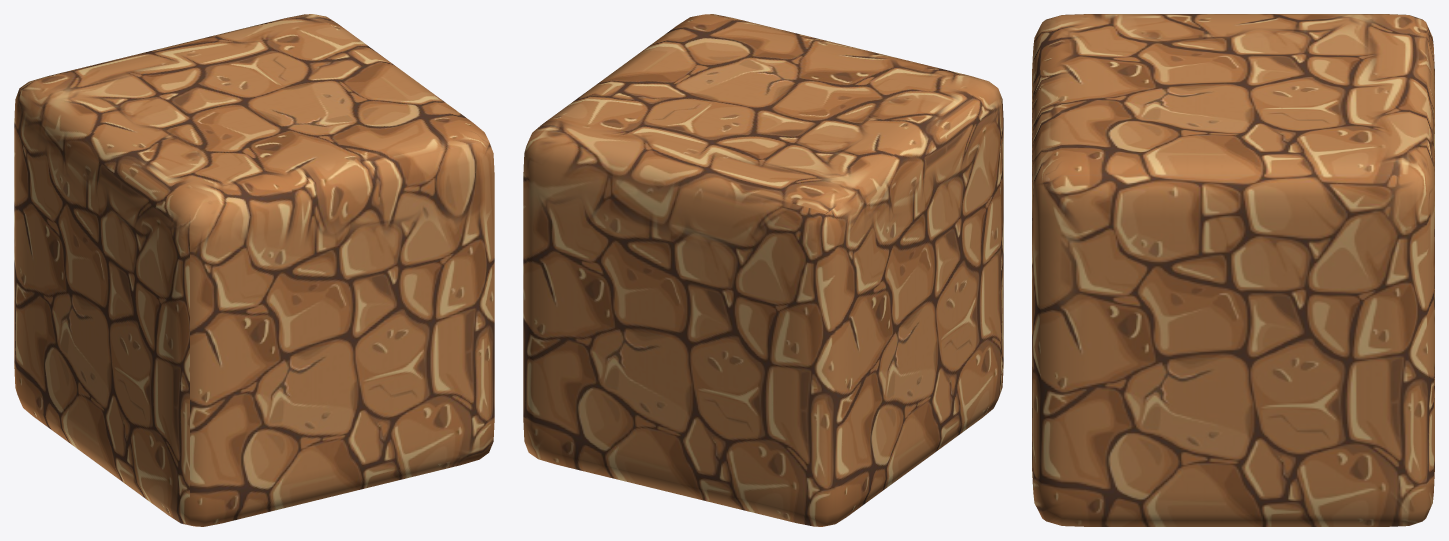
The model's file is SoleBlock.fbx.
3 views of the same model, side by side, from view 1: azimuth 30°, elevation 25°; view 2: azimuth 150°, elevation 25°; view 3: azimuth 270°, elevation 25° (orthographic). The views are drawn at different scales.
Parts seen in each view (by area): view 1: Cube; view 2: Cube; view 3: Cube.
Part boxes in pixels (x1,y1,x2,y2): Cube: (14,14,494,526); Cube: (523,14,1003,526); Cube: (1032,14,1434,526).
Size of the model in its own units: 200 by 200 by 200.
1 material, 1 textured.
